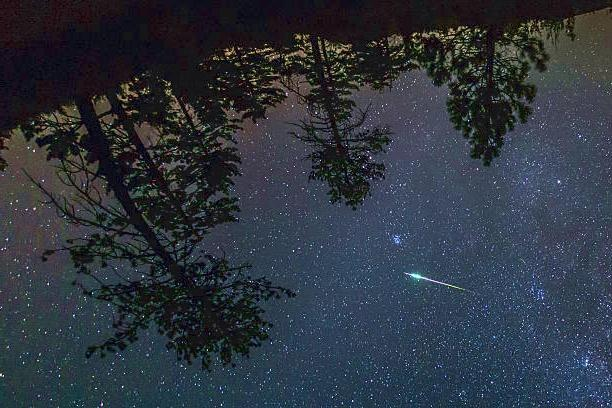meteorite: (390, 265, 487, 300)
